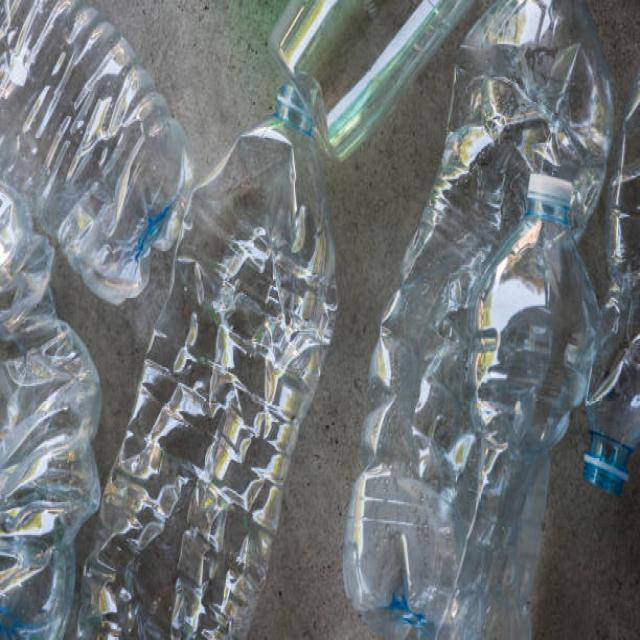plastic: (73, 66, 343, 640), (361, 30, 611, 634)
